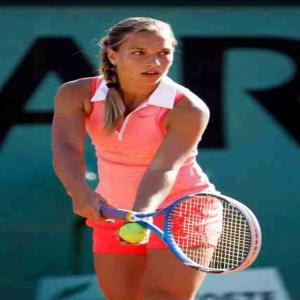TennisBall: (120, 224, 149, 244)
